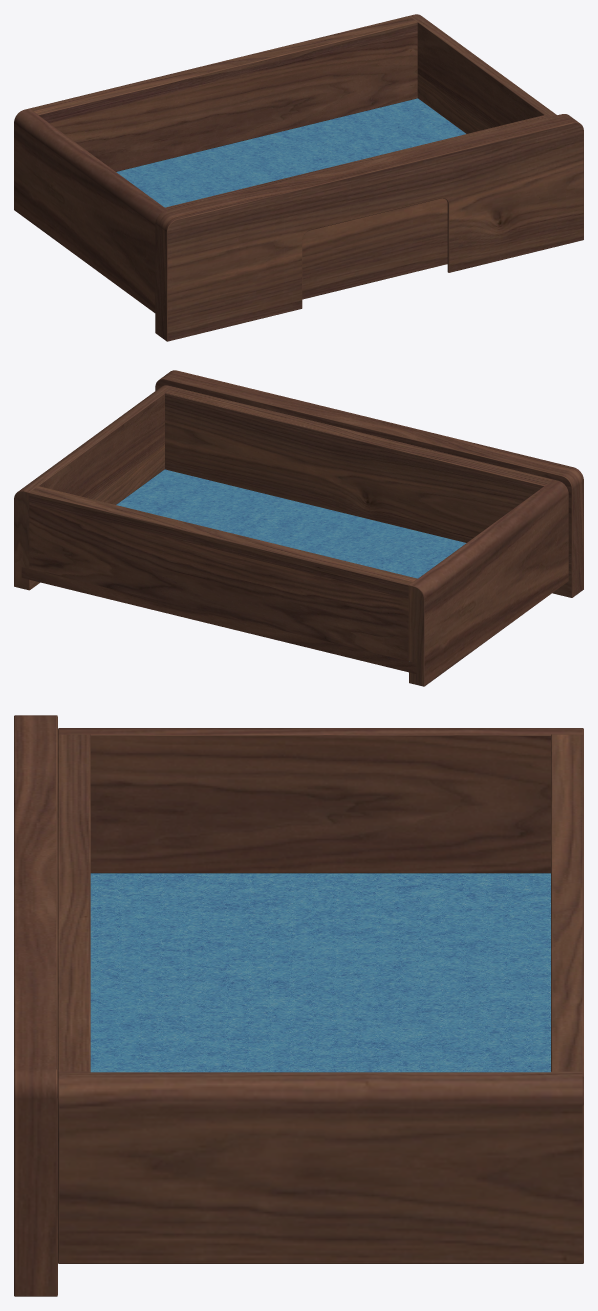
The model's file is cobb-drawer-2.glb.
The picture shows the model from 3 angles, top to bottom: view 1: azimuth 30°, elevation 25°; view 2: azimuth 150°, elevation 25°; view 3: azimuth 270°, elevation 25°; orthographic projection. The views are drawn at different scales.
Parts seen in each view (by area): view 1: Website Model Cobb Drawer; view 2: Website Model Cobb Drawer; view 3: Website Model Cobb Drawer.
Boxes of the visible parts, bbox=[...] form: Website Model Cobb Drawer: bbox=[14, 14, 583, 341]; Website Model Cobb Drawer: bbox=[14, 370, 583, 686]; Website Model Cobb Drawer: bbox=[14, 715, 583, 1296].
Bounding box in the file's own units: 0.508 × 0.1397 × 0.3302.
2 materials, 2 textured.
